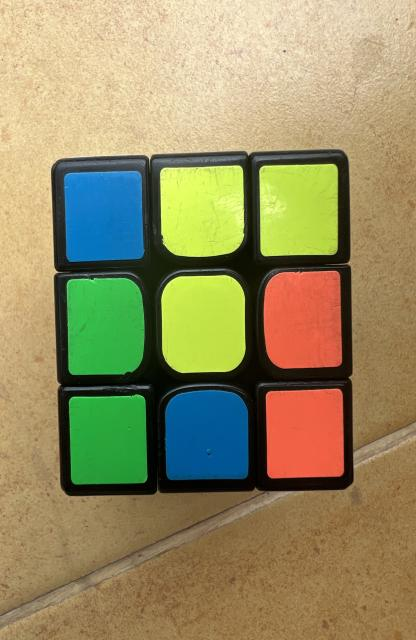Blue: (165, 390, 248, 480), (64, 171, 144, 261)
Green: (67, 278, 144, 375), (68, 395, 147, 485)
Orange: (263, 271, 342, 369), (265, 389, 344, 479)
Yellow: (161, 275, 246, 372), (160, 165, 245, 258), (259, 164, 338, 256)
